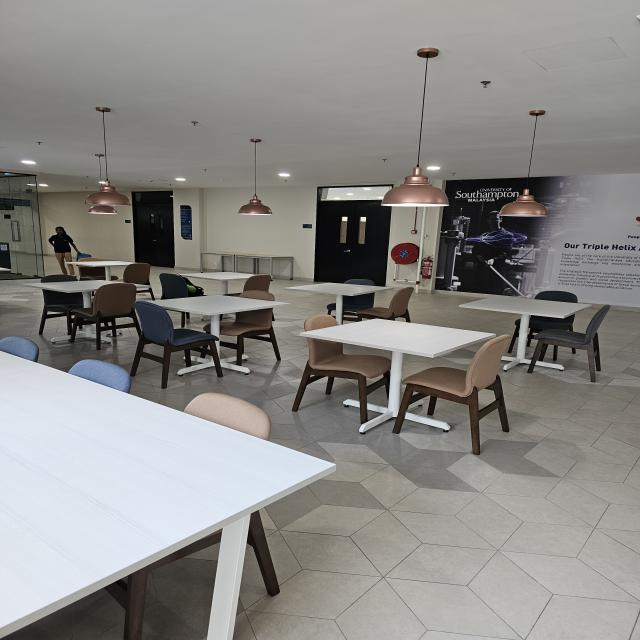footpath: (337, 460, 638, 638)
obstacle: (0, 330, 318, 632), (291, 307, 521, 458), (465, 282, 621, 376), (135, 285, 288, 338), (24, 269, 134, 333)
person: (49, 218, 78, 274)
